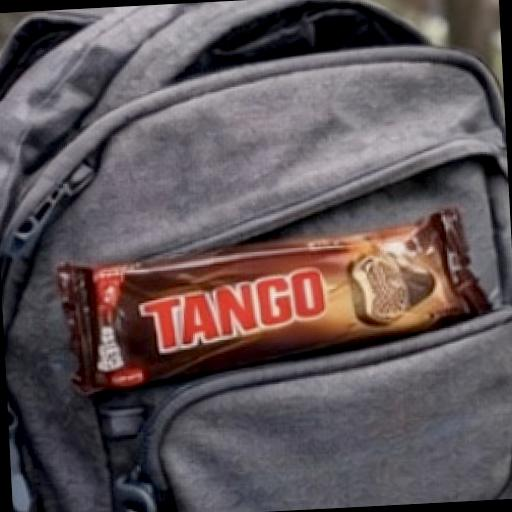tango: (23, 176, 512, 422)
